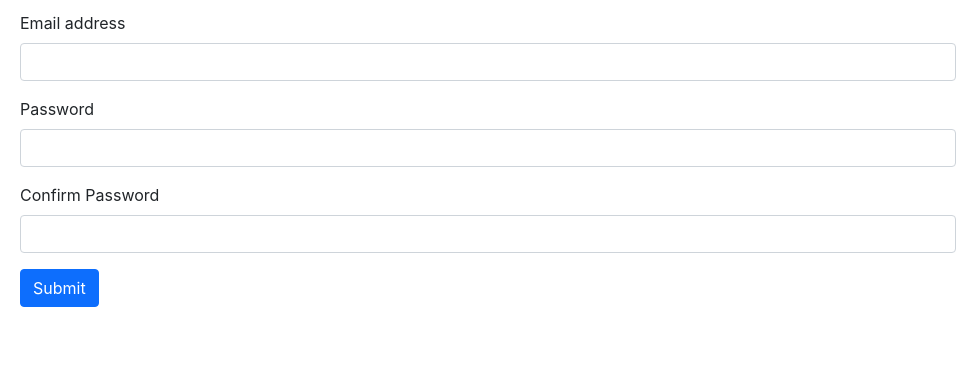
Test case: App › Error Handling › should show email error message on invalid email
Expected: the text "the email you input is invalid" is not shown
Type "selenagmail.com" into the field labelled "Email address".
click(488, 62); type("selenagmail.com")  # box [20,43,956,81]
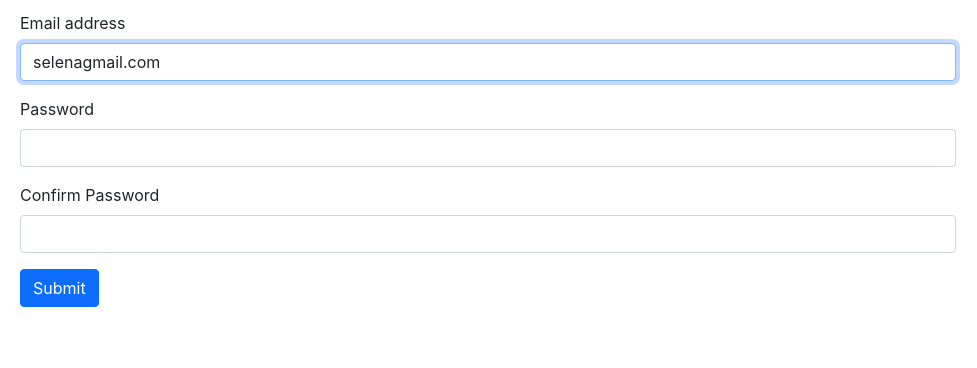
Click the button "Submit".
click(59, 288)  # box [20,269,99,307]
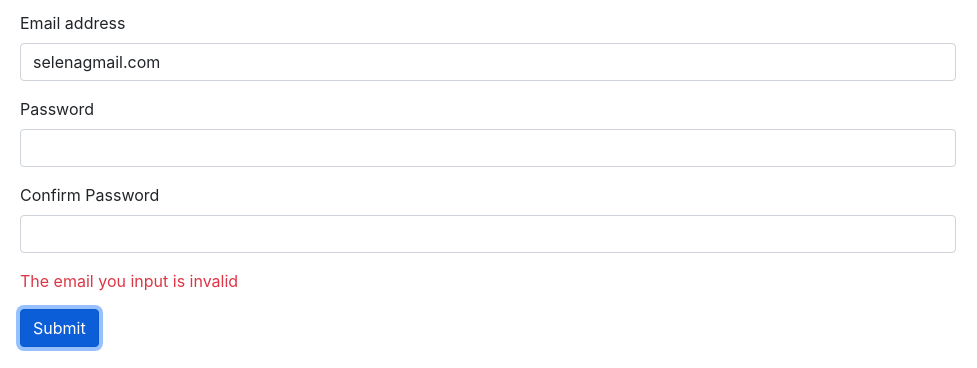
Expected: the text "The email you input is invalid" is shown, [20,271,238,291]
